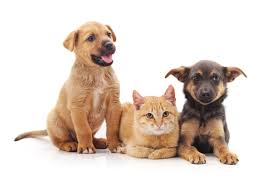cat: (120, 86, 181, 161)
dog: (47, 19, 123, 158), (178, 59, 246, 166)
